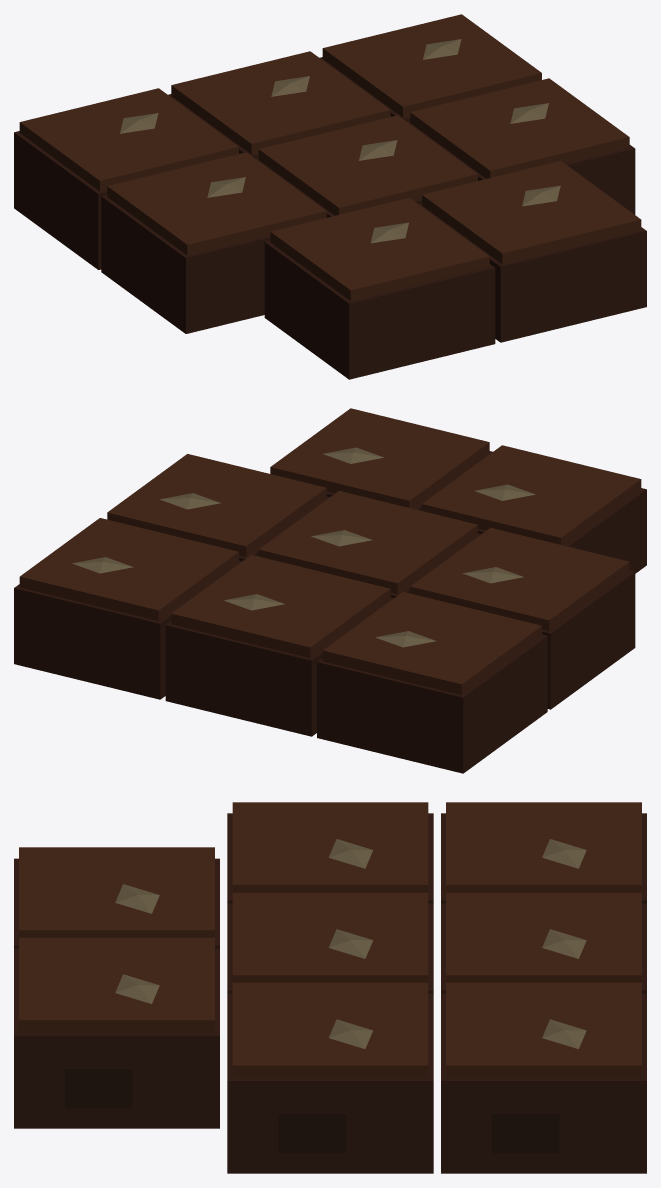
File: pile-mud-8.obj
The picture shows the model from 3 angles, top to bottom: view 1: azimuth 30°, elevation 25°; view 2: azimuth 150°, elevation 25°; view 3: azimuth 270°, elevation 25°; orthographic projection. The views are drawn at different scales.
Parts seen in each view (by area): view 1: pile-mud-8; view 2: pile-mud-8; view 3: pile-mud-8.
Part boxes in pixels (x1=…): pile-mud-8: x1=14, y1=14, x2=646, y2=379; pile-mud-8: x1=14, y1=408, x2=646, y2=773; pile-mud-8: x1=14, y1=802, x2=646, y2=1173.
Bounding box in the file's own units: 0.869 × 0.167 × 0.866.
1 material, 1 textured.
